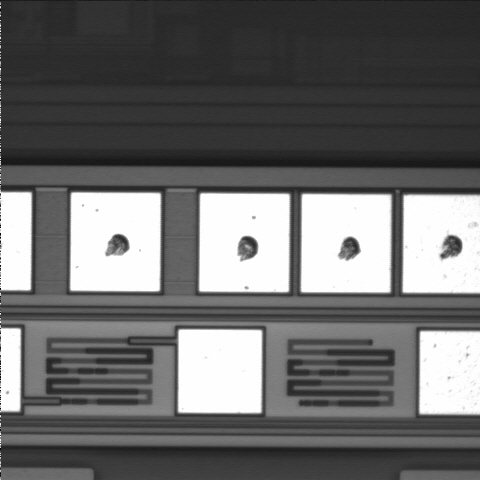pad: (199, 193, 290, 292), (70, 193, 161, 291), (301, 194, 391, 292), (178, 330, 262, 413)
